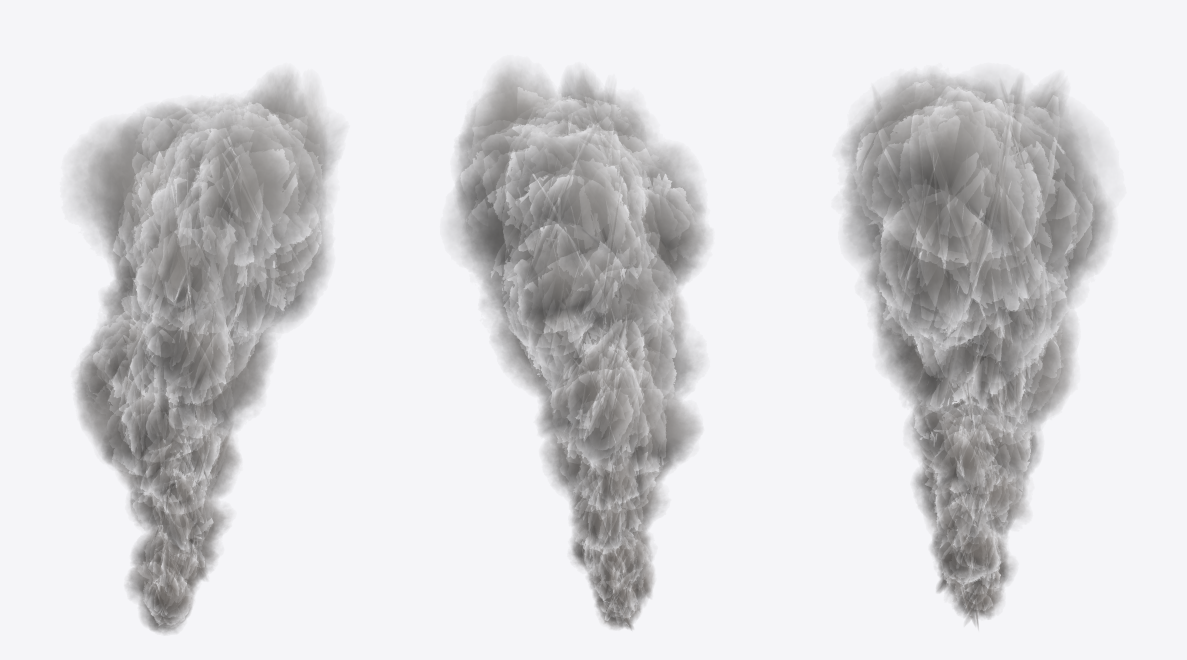
Rendered from ash_column_core.glb.
The picture shows the model from 3 angles, left to right: view 1: azimuth 30°, elevation 25°; view 2: azimuth 150°, elevation 25°; view 3: azimuth 270°, elevation 25°; orthographic projection. The views are drawn at different scales.
Size of the model in its own units: 103 by 186 by 101.
Materials: 1 (1 with a texture image).
